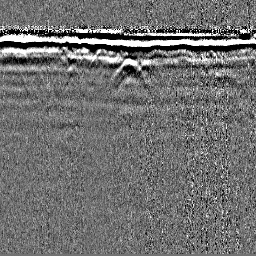cavity: (110, 57, 146, 84)
